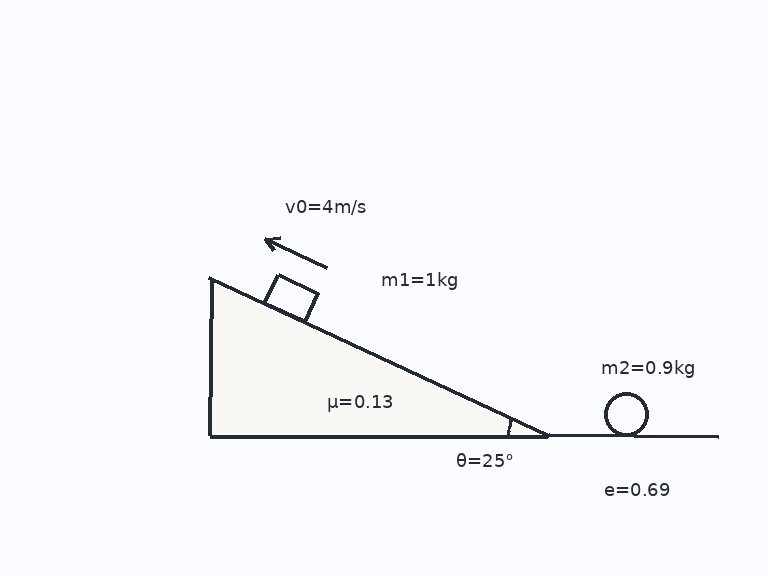ball: (602, 390, 650, 438)
block: (262, 272, 319, 324)
ramp: (208, 276, 550, 438)
